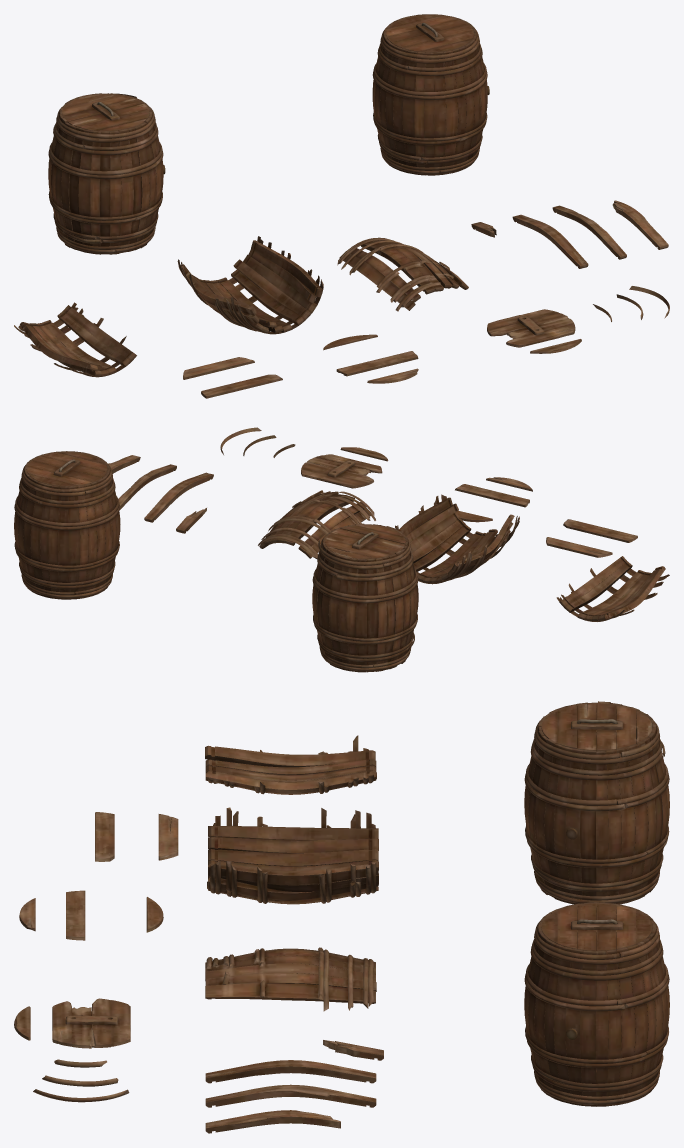
The model's file is wooden_barrels_01.glb.
The picture shows the model from 3 angles, top to bottom: view 1: azimuth 30°, elevation 25°; view 2: azimuth 150°, elevation 25°; view 3: azimuth 270°, elevation 25°; orthographic projection. The views are drawn at different scales.
Visible parts, largest first — view 1: wooden_barrels_01_piece01, wooden_barrels_01_barrel02, wooden_barrels_01_barrel01; view 2: wooden_barrels_01_piece01, wooden_barrels_01_barrel02, wooden_barrels_01_barrel01; view 3: wooden_barrels_01_piece01, wooden_barrels_01_barrel01, wooden_barrels_01_barrel02.
Part boxes in pixels (<box>): wooden_barrels_01_piece01: <box>14,200,669,398</box>; wooden_barrels_01_barrel02: <box>48,93,165,254</box>; wooden_barrels_01_barrel01: <box>372,14,489,175</box>; wooden_barrels_01_piece01: <box>108,427,669,621</box>; wooden_barrels_01_barrel02: <box>312,523,418,672</box>; wooden_barrels_01_barrel01: <box>14,451,120,599</box>; wooden_barrels_01_piece01: <box>14,735,383,1133</box>; wooden_barrels_01_barrel01: <box>524,902,669,1106</box>; wooden_barrels_01_barrel02: <box>524,701,669,904</box>.
Bounding box in the file's own units: 4.44 × 0.9568 × 3.34.
Materials: 3 (3 with a texture image).
